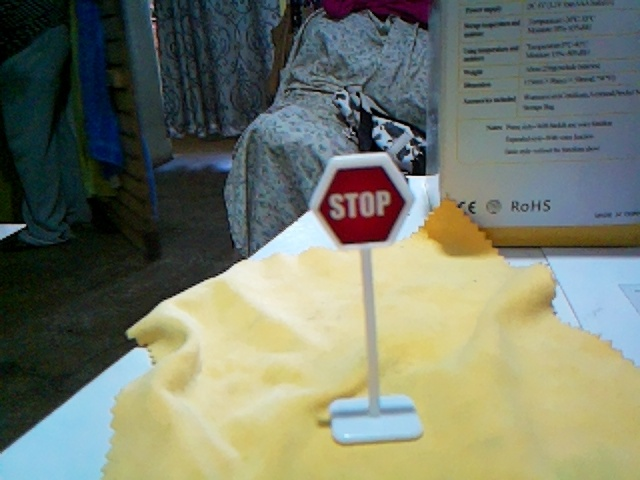stop_sign: (310, 153, 413, 247)
